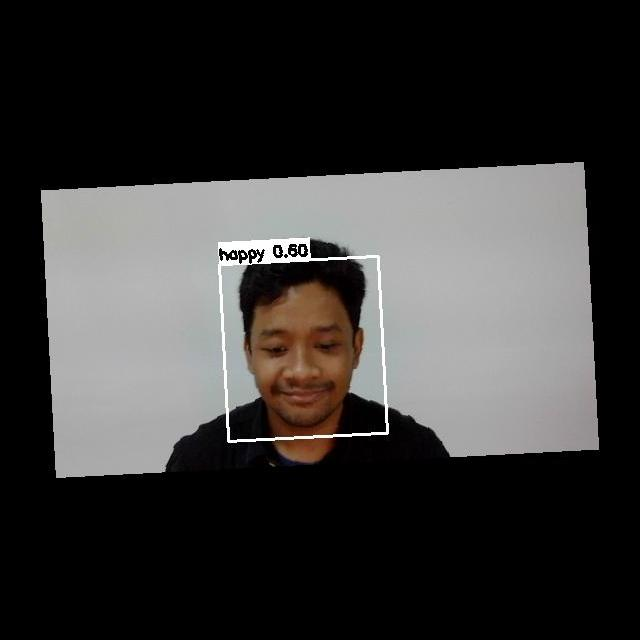Happy: (245, 308, 365, 411)
